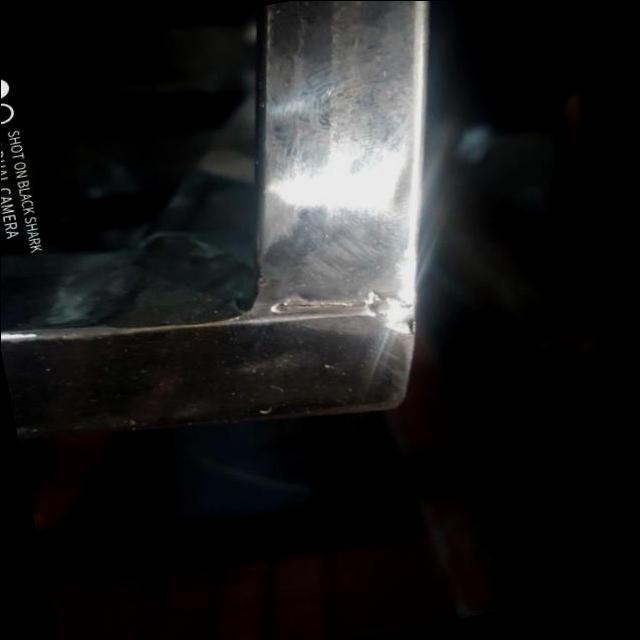defect: (273, 301, 367, 309)
